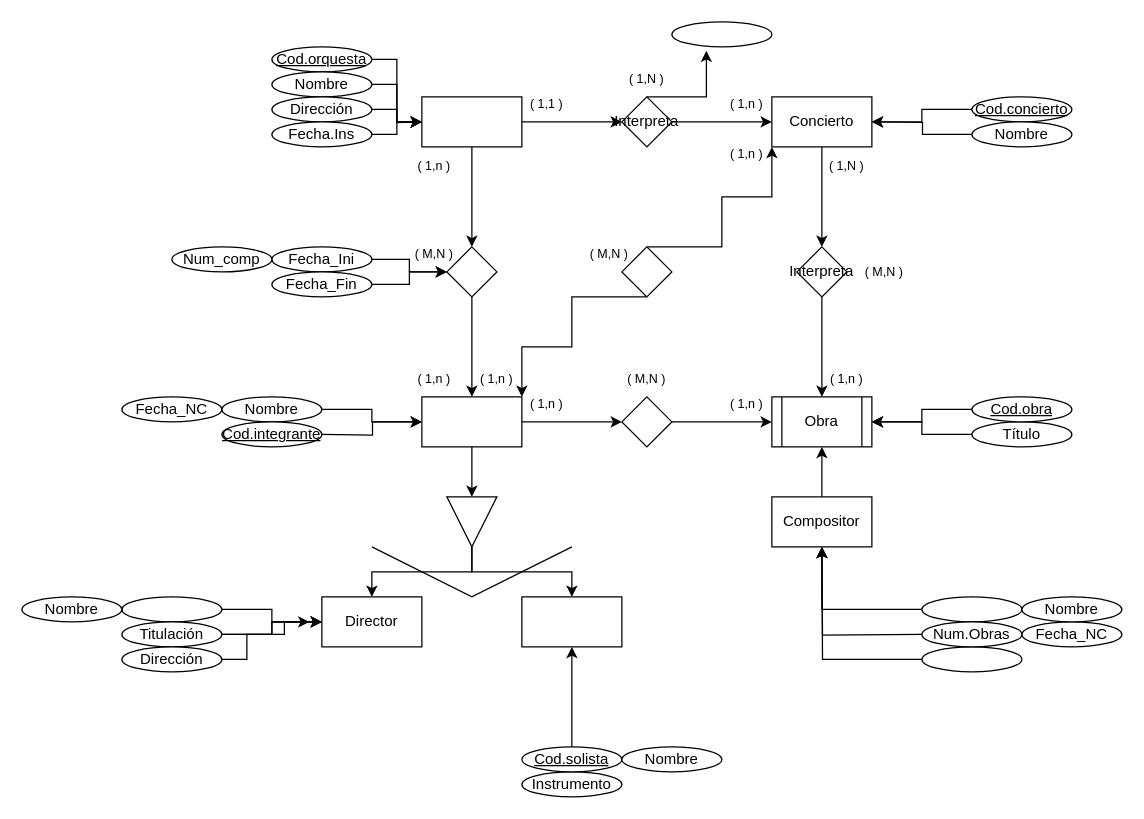
The diagram is 1144 pixels wide and 819 high, and some of its shapes have lost their labels. Each missing label, with the centre of its shape:
Cod.compositor: the point at 971,609
Cod.director: the point at 171,609
Fecha_DF: the point at 971,659
Forman: the point at 471,271
Intregrantes: the point at 471,421
ISA: the point at 471,521
Orquesta: the point at 471,121
Participa: the point at 646,271
Participan: the point at 646,421
Solista: the point at 571,621
Temporada: the point at 721,34
